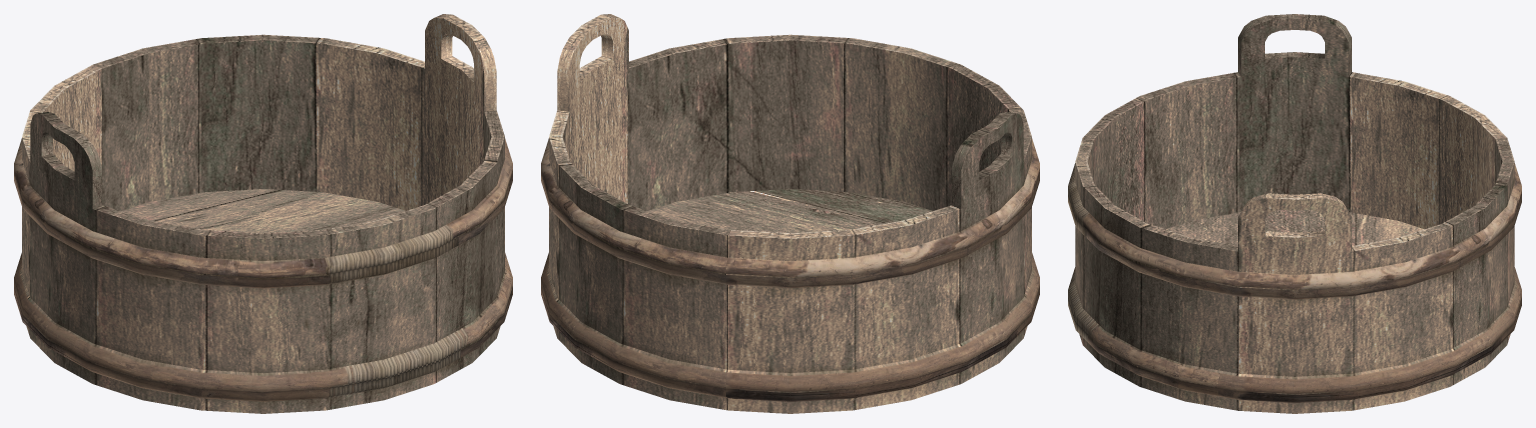
The model's file is tub_med.fbx.
The picture shows the model from 3 angles, left to right: view 1: azimuth 30°, elevation 25°; view 2: azimuth 150°, elevation 25°; view 3: azimuth 270°, elevation 25°; orthographic projection. The views are drawn at different scales.
Parts seen in each view (by area): view 1: tub_med; view 2: tub_med; view 3: tub_med.
Part boxes in pixels (x1=…): tub_med: x1=14, y1=14, x2=512, y2=413; tub_med: x1=541, y1=14, x2=1039, y2=413; tub_med: x1=1068, y1=14, x2=1521, y2=413.
Bounding box in the file's own units: 103 × 53.79 × 103.
